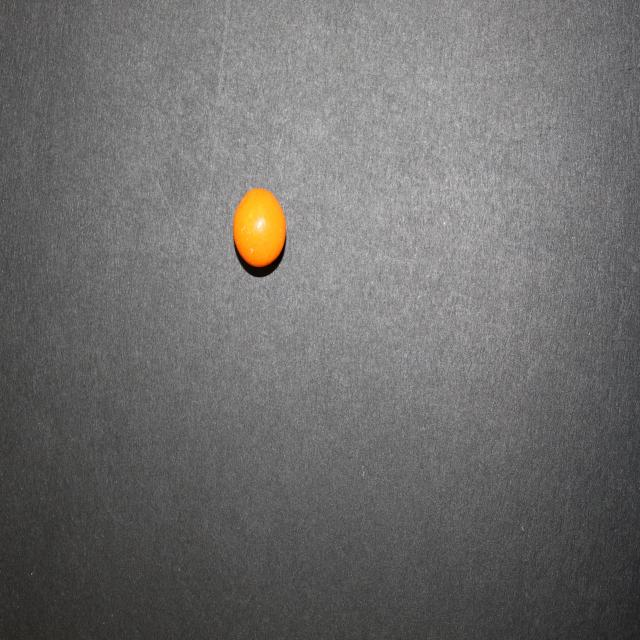smartie: (233, 187, 286, 267)
